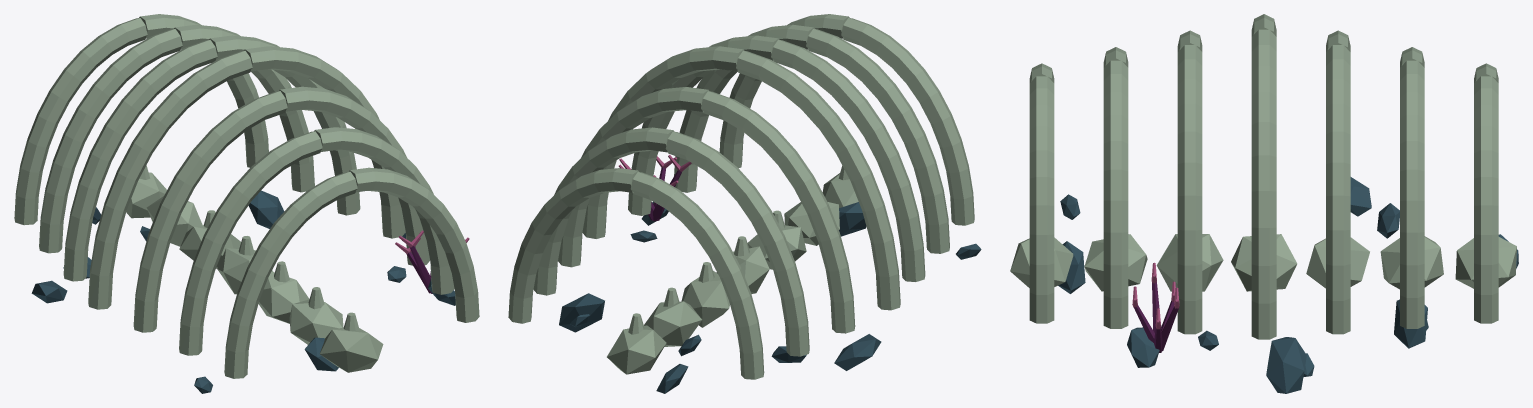
The model's file is 05_giant_ribcage.obj.
The picture shows the model from 3 angles, left to right: view 1: azimuth 30°, elevation 25°; view 2: azimuth 150°, elevation 25°; view 3: azimuth 270°, elevation 25°; orthographic projection. The views are drawn at different scales.
Parts seen in each view (by area): view 1: 05_giant_ribcage; view 2: 05_giant_ribcage; view 3: 05_giant_ribcage.
Part boxes in pixels (bbox=[...]): 05_giant_ribcage: bbox=[14, 14, 479, 393]; 05_giant_ribcage: bbox=[508, 14, 981, 393]; 05_giant_ribcage: bbox=[1010, 14, 1518, 393].
Size of the model in its own units: 8.53 by 5.64 by 9.62.
1 material, 1 textured.
